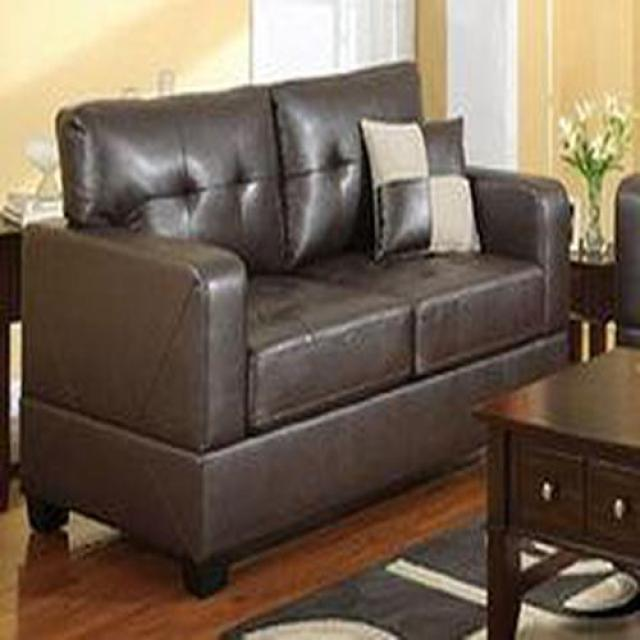sofa: (10, 65, 571, 596)
